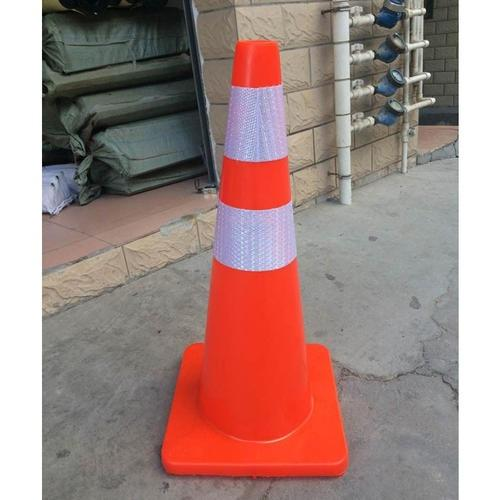cone_barrel: (175, 45, 333, 467)
